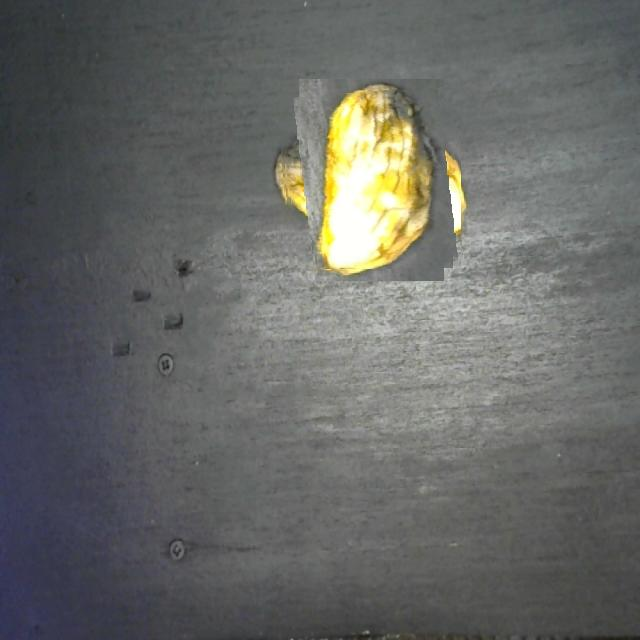biodegradable: (281, 90, 461, 270)
